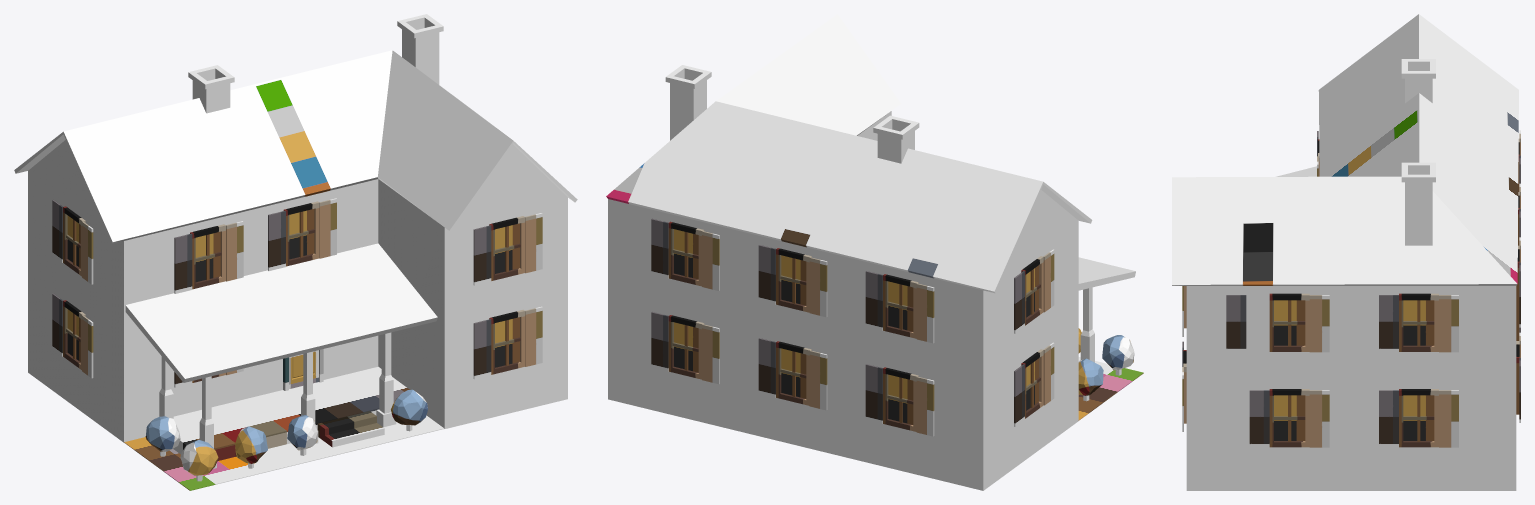
File: Farm house.glb
The picture shows the model from 3 angles, left to right: view 1: azimuth 30°, elevation 25°; view 2: azimuth 150°, elevation 25°; view 3: azimuth 270°, elevation 25°; orthographic projection. The views are drawn at different scales.
Parts seen in each view (by area): view 1: FarmHouse_Mesh; view 2: FarmHouse_Mesh; view 3: FarmHouse_Mesh.
Boxes of the visible parts, <box> form: FarmHouse_Mesh: <box>14,14,577,490</box>; FarmHouse_Mesh: <box>606,14,1143,490</box>; FarmHouse_Mesh: <box>1172,14,1520,490</box>.
Size of the model in its own units: 25.34 by 18.43 by 19.12.
Materials: 1 (1 with a texture image).
